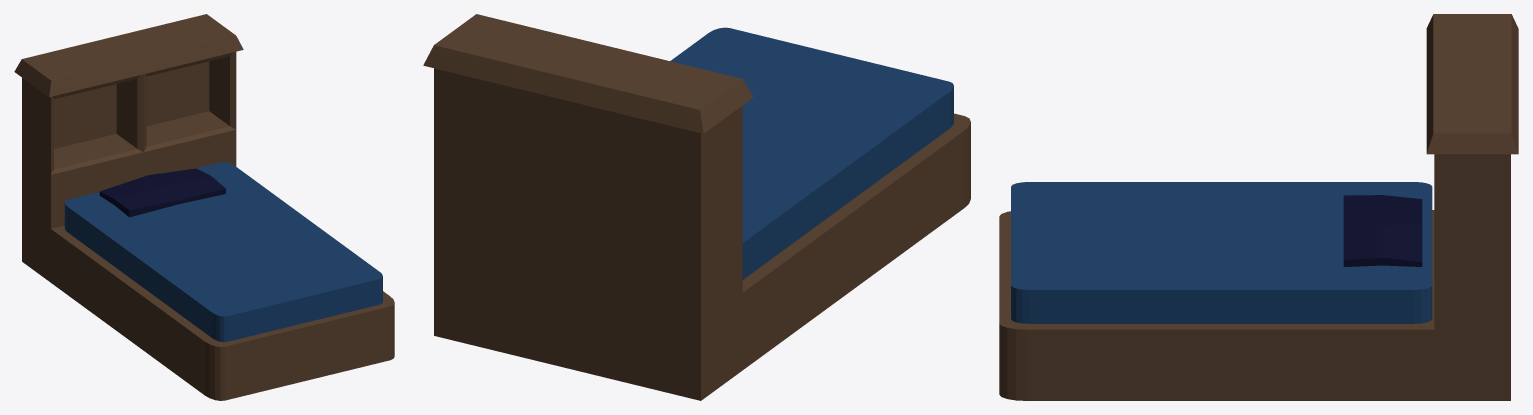
File: Bed.glb
The picture shows the model from 3 angles, left to right: view 1: azimuth 30°, elevation 25°; view 2: azimuth 150°, elevation 25°; view 3: azimuth 270°, elevation 25°; orthographic projection. The views are drawn at different scales.
Visible parts, largest first — view 1: Bed; view 2: Bed; view 3: Bed.
Boxes of the visible parts, bbox=[...] form: Bed: bbox=[14, 14, 394, 400]; Bed: bbox=[423, 14, 970, 400]; Bed: bbox=[999, 14, 1518, 400].
Bounding box in the file's own units: 1.51 × 1.5 × 2.64.
